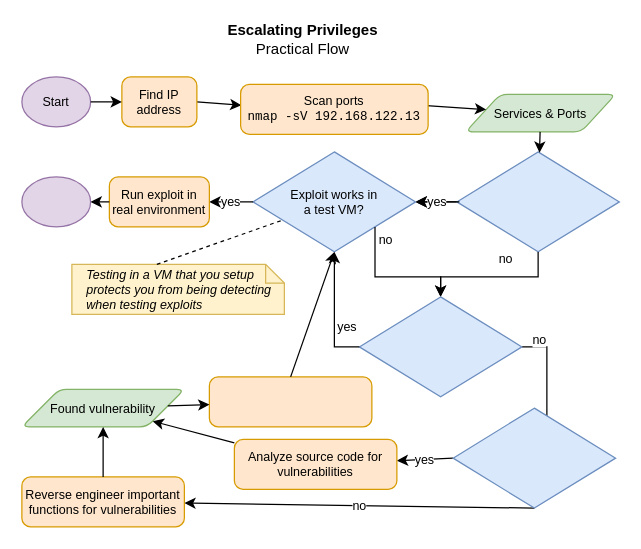
This 641x549 diagram has some shape labels left out. The shapes that lost their labels are listed below. From the top down, each one's centre as x and y in pixels, then its label:
At [56,201]: "End".
At [537,201]: "Known vulnerability exists in metasploit ?".
At [440,346]: "Exists in Internet? Replies on forums?".
At [290,401]: "Write an exploit".
At [534,457]: "Is open Source?".
